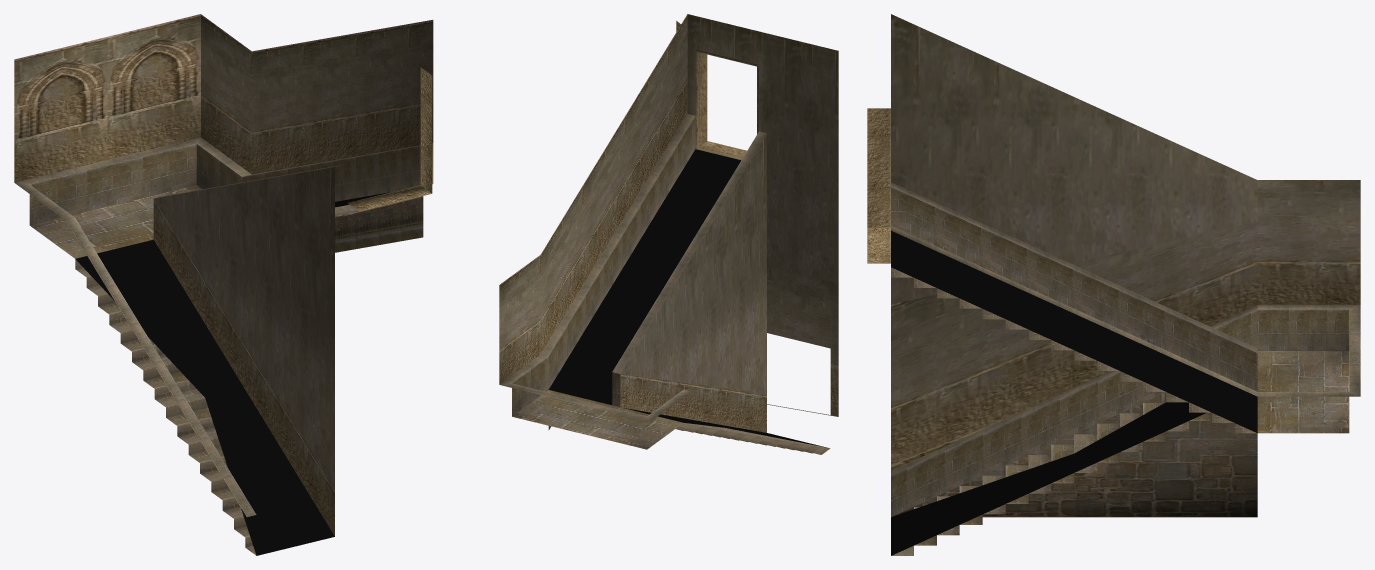
File: M7Z4Balcony_Stairs01.glb
3 views of the same model, side by side, from view 1: azimuth 30°, elevation 25°; view 2: azimuth 150°, elevation 25°; view 3: azimuth 270°, elevation 25° (orthographic). The views are drawn at different scales.
Parts seen in each view (by area): view 1: M7Z4BALCONY_STAIRS01; view 2: M7Z4BALCONY_STAIRS01; view 3: M7Z4BALCONY_STAIRS01.
Boxes of the visible parts, x1,y1,x2,y2 form: M7Z4BALCONY_STAIRS01: [14, 14, 433, 555]; M7Z4BALCONY_STAIRS01: [499, 14, 838, 454]; M7Z4BALCONY_STAIRS01: [867, 14, 1360, 555].
Size of the model in its own units: 5.4 by 12 by 10.77.
6 materials, 5 textured.
